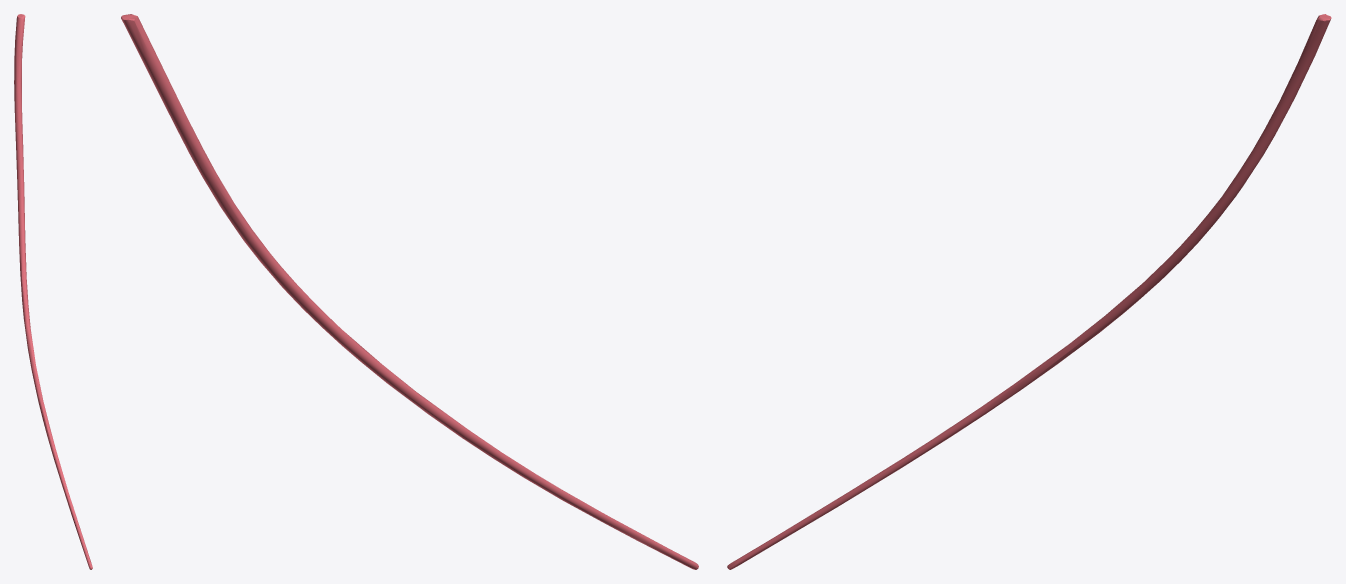
The model's file is fma85096_fj2354.glb.
The picture shows the model from 3 angles, left to right: view 1: azimuth 30°, elevation 25°; view 2: azimuth 150°, elevation 25°; view 3: azimuth 270°, elevation 25°; orthographic projection. The views are drawn at different scales.
Visible parts, largest first — view 1: FMA85096_FJ2354; view 2: FMA85096_FJ2354; view 3: FMA85096_FJ2354.
Boxes of the visible parts, x1,y1,x2,y2 form: FMA85096_FJ2354: (14,14,92,569); FMA85096_FJ2354: (121,14,698,569); FMA85096_FJ2354: (727,14,1331,569).
Size of the model in its own units: 0.0173 by 0.0556 by 0.0474.
